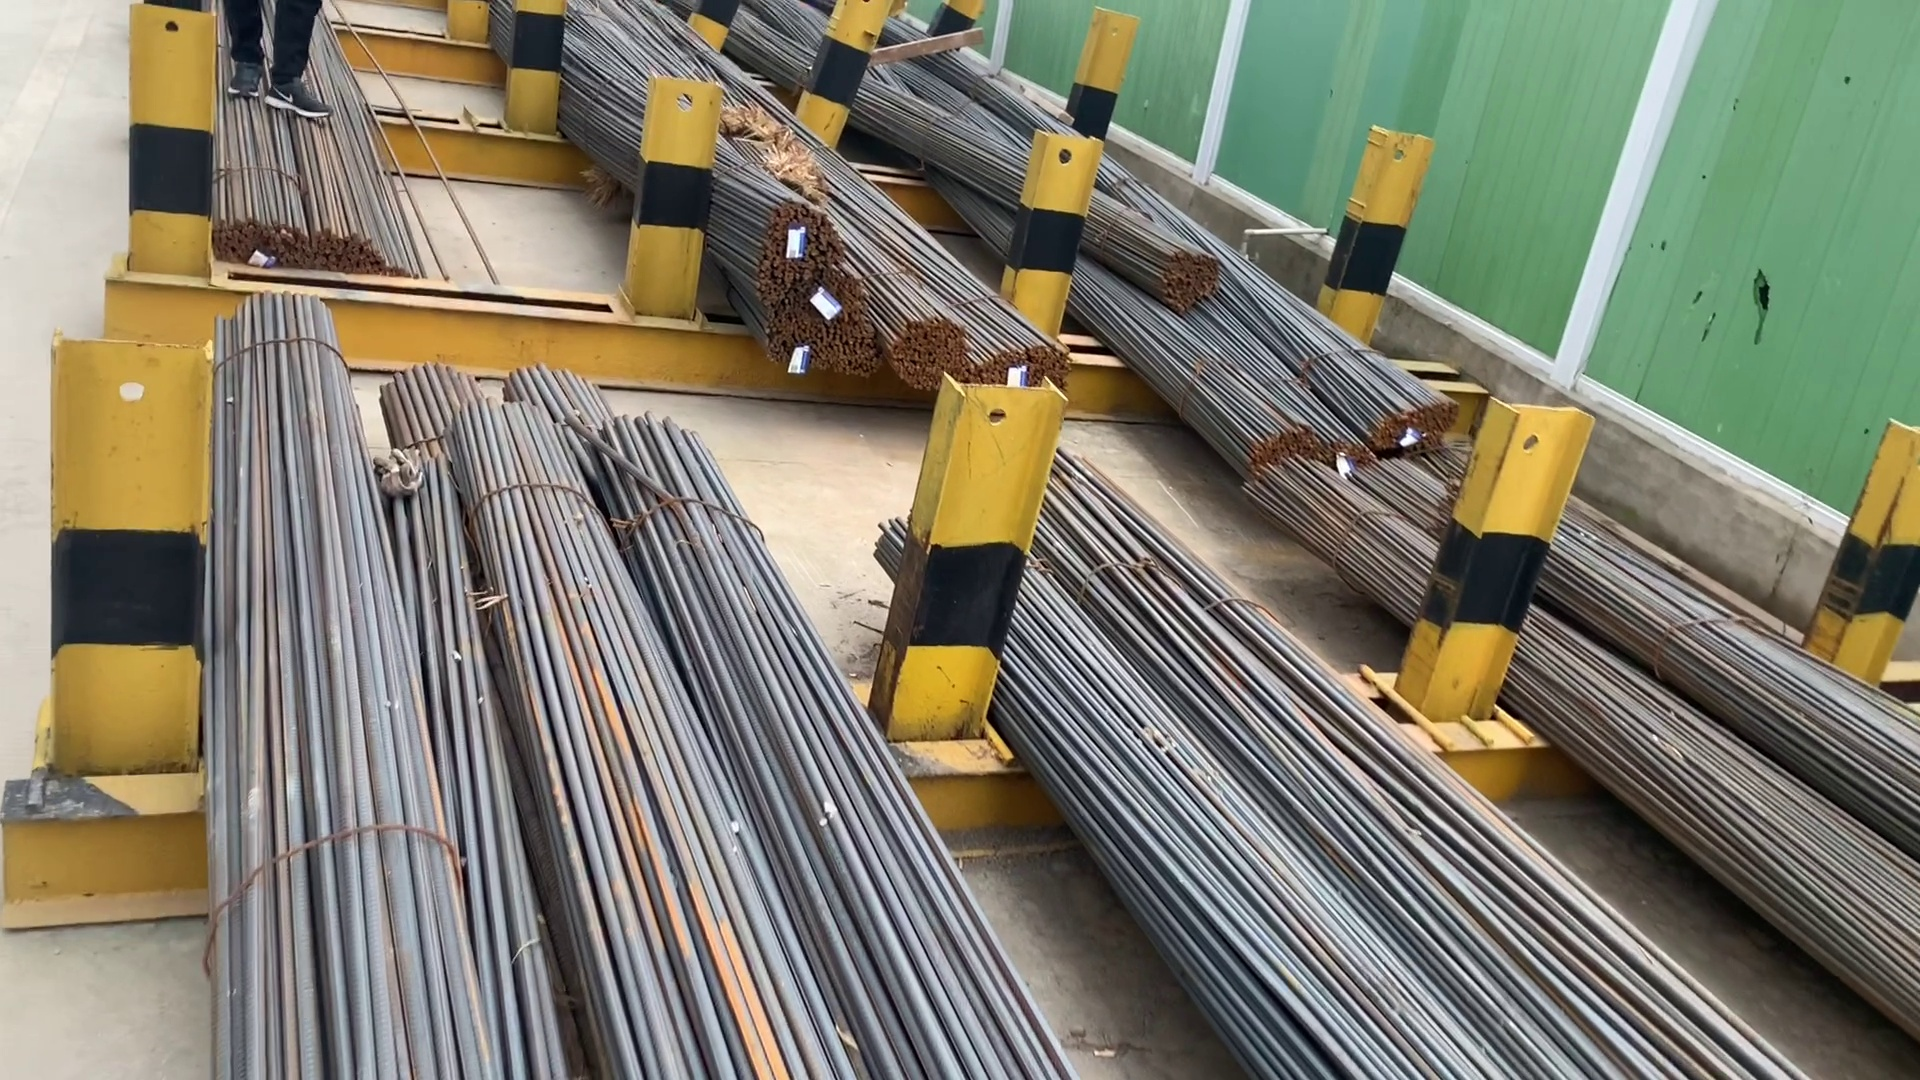rebar: (767, 291, 873, 380), (752, 214, 847, 287), (978, 338, 1085, 402), (887, 307, 968, 386), (1240, 415, 1353, 469), (1365, 378, 1453, 443), (211, 216, 314, 268), (1160, 235, 1222, 316), (322, 229, 402, 276)
